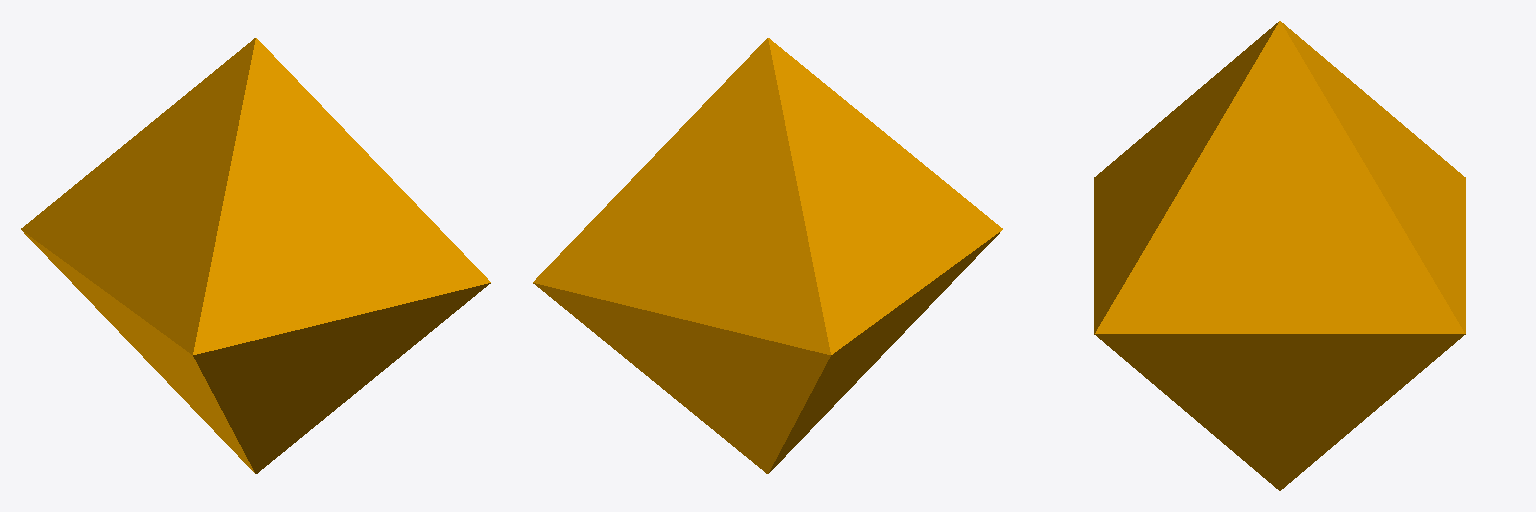
robot.urdf — milkParticle:
<?xml version="1.0"?>
<robot name="milkParticle">
  <link name="milk">
    <inertial>
        <origin rpy="0 0 0" xyz="0 0 0"/>
        <mass value="0.01"/>
        <inertia ixx="4.4e-5" ixy="0" ixz="0" iyy="0" iyz="0" izz="4.4e-5"/>
    </inertial>
    <visual>
      <geometry>
        <mesh filename="MilkParticle.obj"/>
      </geometry>
    </visual>
    <collision>
      <geometry>
        <mesh filename="MilkParticle.obj"/>
      </geometry>
      <surface>
           <bounce restitution_coefficient = "0.1"/>
      </surface>
    </collision>
  </link>
</robot>

--- What the picture shows (computed from the rendered views, not written in the file) ---
3 views of the same robot in one strip: view 1: azimuth 30°, elevation 25°; view 2: azimuth 150°, elevation 25°; view 3: azimuth 270°, elevation 25° (orthographic).
Robot: milkParticle — 1 links, 0 joints (none); root link milk; default pose: every joint at zero.
Links seen in each view (by area): view 1: milk; view 2: milk; view 3: milk.
Link boxes in pixels (<box>): milk: <box>21,38,490,473</box>; milk: <box>533,38,1002,473</box>; milk: <box>1094,21,1465,490</box>.
Size in the robot's own frame: 0.01 by 0.01 by 0.014 metres.
Meshes: 1 distinct files referenced, 1 mesh visuals loaded (1 OBJ).
